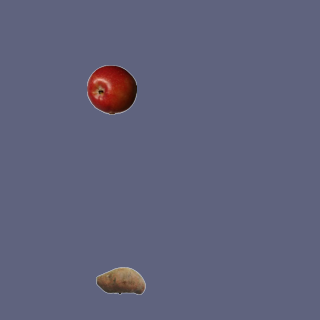Apple Braeburn: (86, 64, 136, 114)
Potato Sweet: (95, 255, 145, 305)
